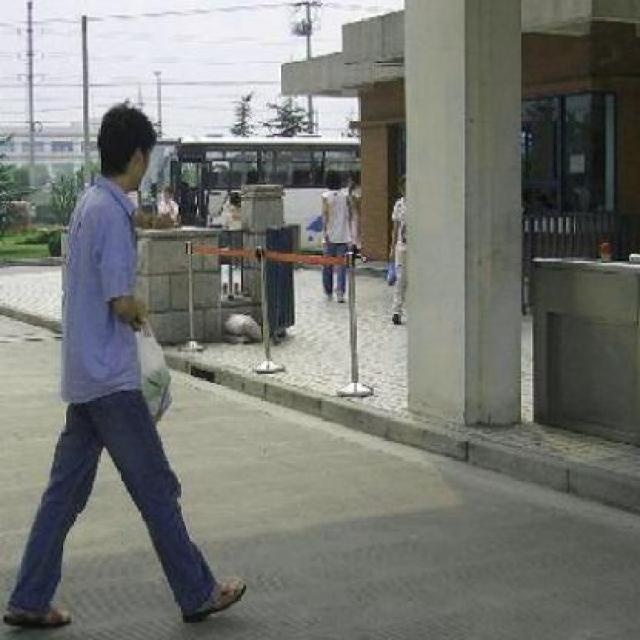obstacle: (0, 95, 252, 630), (312, 167, 358, 305)
